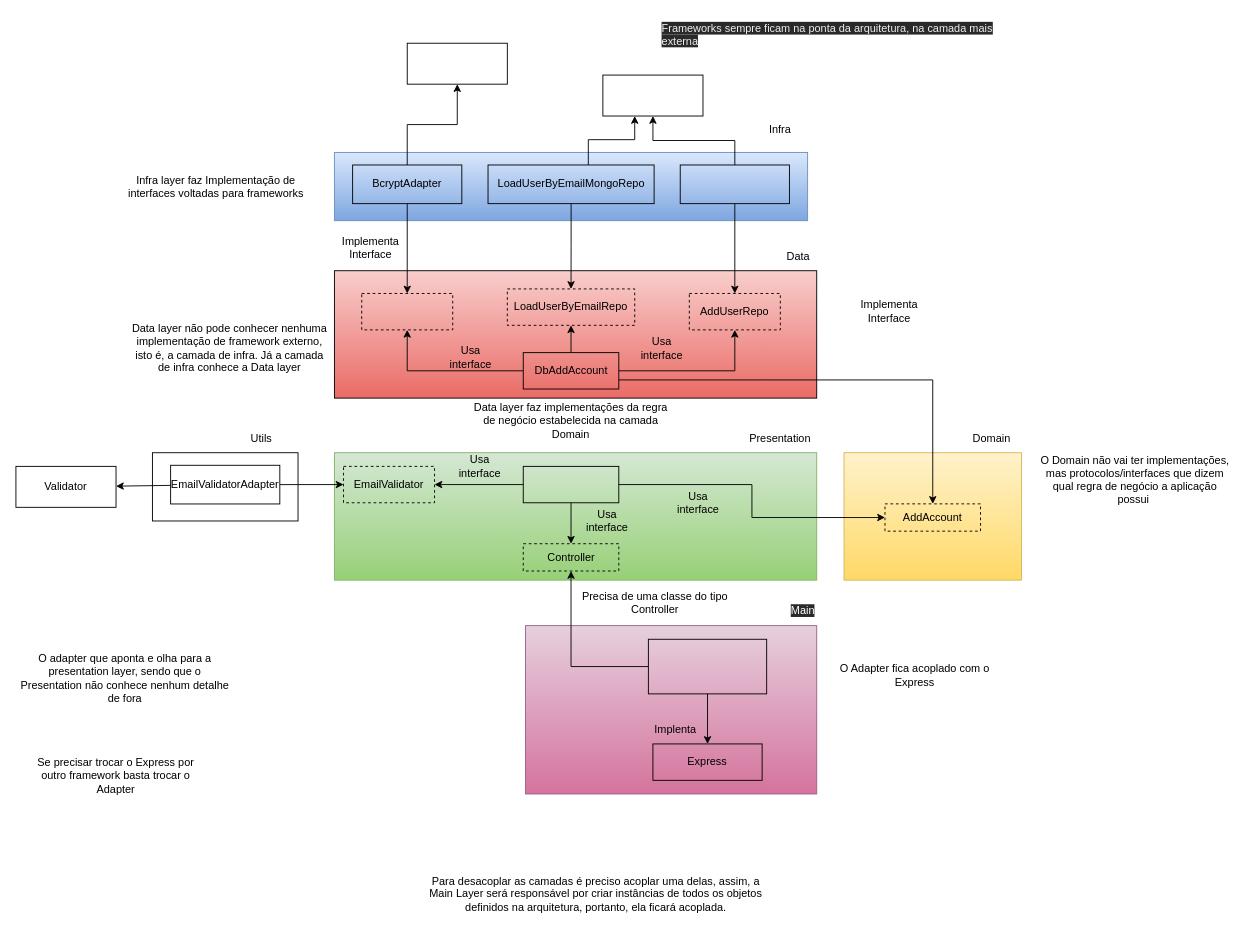
This 1251x929 diagram has some shape labels left out. Here are the shapes that lost their labels. From the top down, the box of each, then its label:
(406, 42, 507, 84): Bcrypt
(602, 74, 703, 116): MongoDb
(679, 164, 789, 204): AddUserMongoRepo
(361, 293, 453, 330): Encrypter
(522, 465, 619, 503): SignUpController
(647, 638, 767, 694): ExpressRouteAdapter
